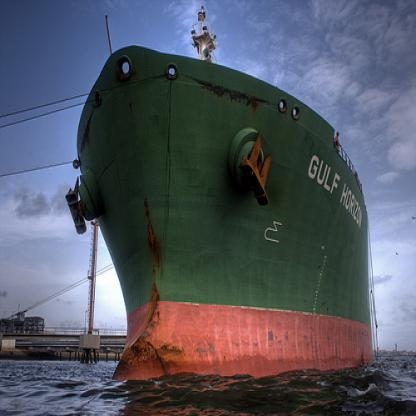boat: (67, 6, 375, 382)
